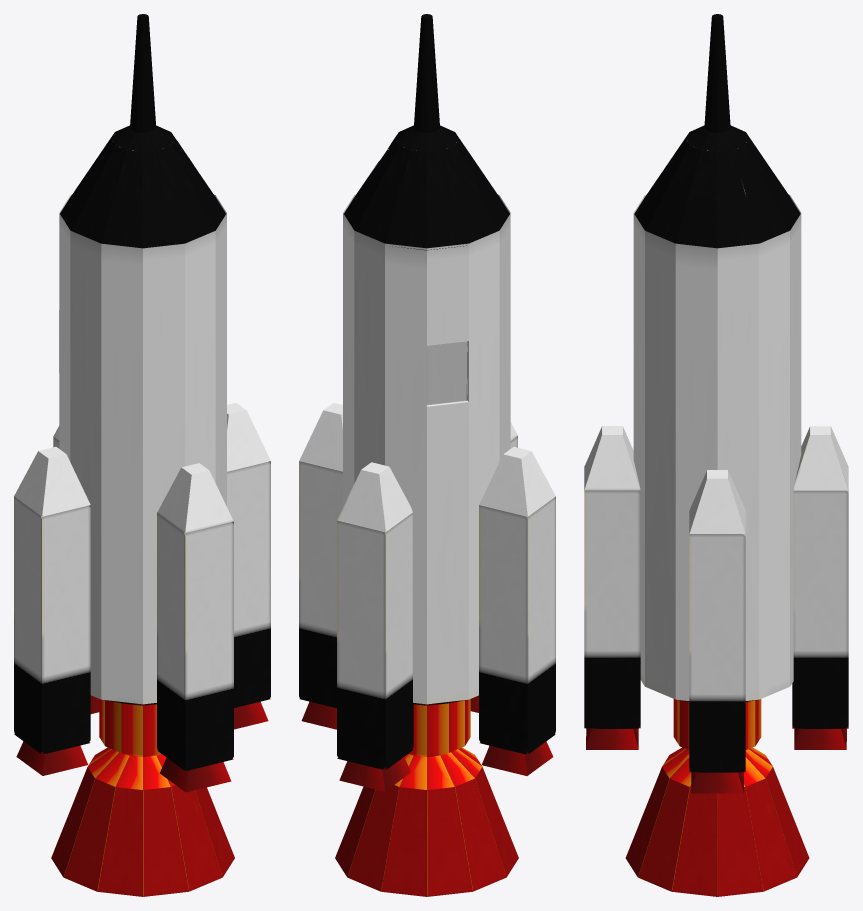
The model's file is tier4rocketgs.obj.
The picture shows the model from 3 angles, left to right: view 1: azimuth 30°, elevation 25°; view 2: azimuth 150°, elevation 25°; view 3: azimuth 270°, elevation 25°; orthographic projection.
Visible parts, largest first — view 1: Rocket, Booster3, Booster2, Booster1; view 2: Rocket, Booster2, Booster4, Booster1; view 3: Rocket, Booster1, Booster3, Booster4.
Boxes of the visible parts, bbox=[...] form: Rocket: bbox=[51, 17, 234, 896]; Booster3: bbox=[157, 463, 233, 792]; Booster2: bbox=[14, 446, 90, 775]; Booster1: bbox=[227, 402, 270, 729]; Rocket: bbox=[335, 18, 518, 896]; Booster2: bbox=[479, 447, 555, 775]; Booster4: bbox=[337, 462, 413, 791]; Booster1: bbox=[299, 402, 342, 729]; Rocket: bbox=[625, 17, 809, 896]; Booster1: bbox=[689, 470, 745, 793]; Booster3: bbox=[584, 426, 640, 749]; Booster4: bbox=[792, 426, 848, 749].
Bounding box in the file's own units: 3.15 × 11.08 × 3.15.
